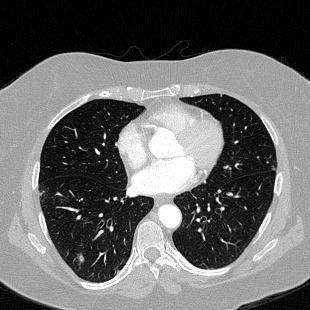nodule: (77, 255, 85, 263)
